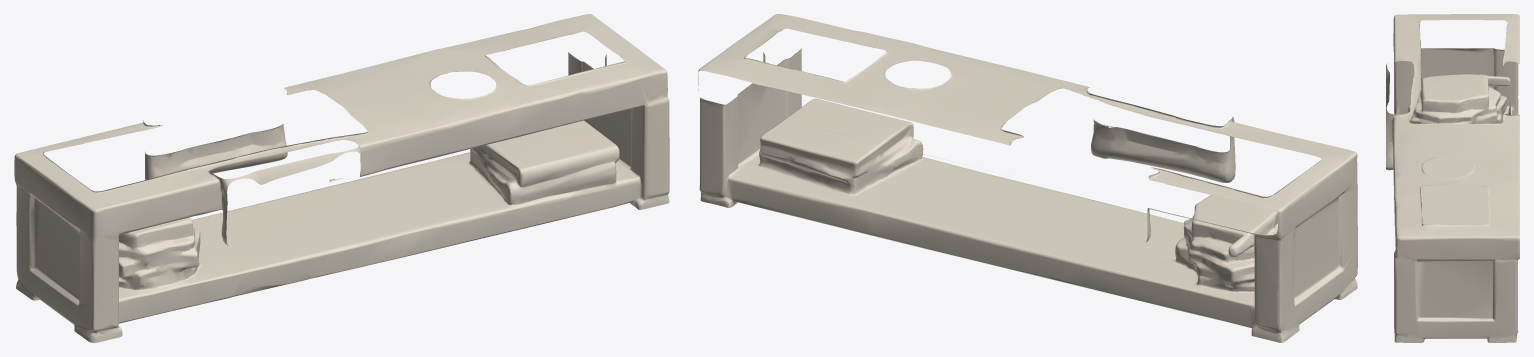
File: bedroom_bench.glb
3 views of the same model, side by side, from view 1: azimuth 30°, elevation 25°; view 2: azimuth 150°, elevation 25°; view 3: azimuth 270°, elevation 25° (orthographic). The views are drawn at different scales.
Size of the model in its own units: 0.5538 by 0.124 by 0.1397.
